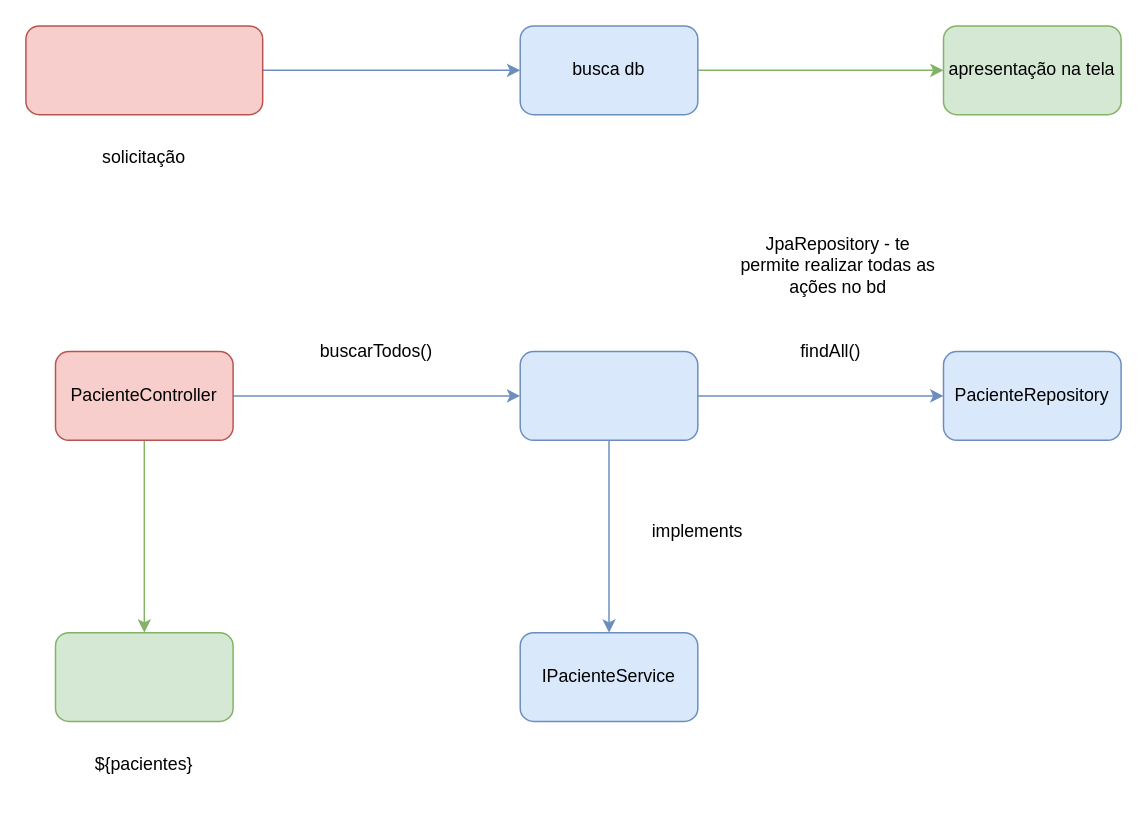
This 1147x817 diagram has some shape labels left out. The box of each missing label's shape, as (x1, y1, x2, y2) in pixels:
localhost:8080/pacientes: (24, 24, 263, 115)
pacientes.jsp: (54, 631, 233, 722)
PacienteService: (519, 350, 698, 440)
